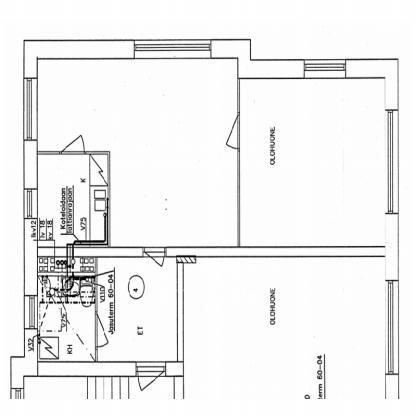bathroom: (32, 273, 96, 360)
door: (131, 357, 168, 392), (225, 113, 245, 160), (57, 131, 86, 160), (139, 243, 168, 270), (91, 312, 109, 352)
perimeter: (32, 52, 393, 371)
window: (127, 34, 216, 68), (382, 106, 404, 219), (379, 277, 402, 377), (20, 72, 43, 144), (298, 55, 350, 84), (17, 181, 42, 223), (19, 290, 42, 334)
